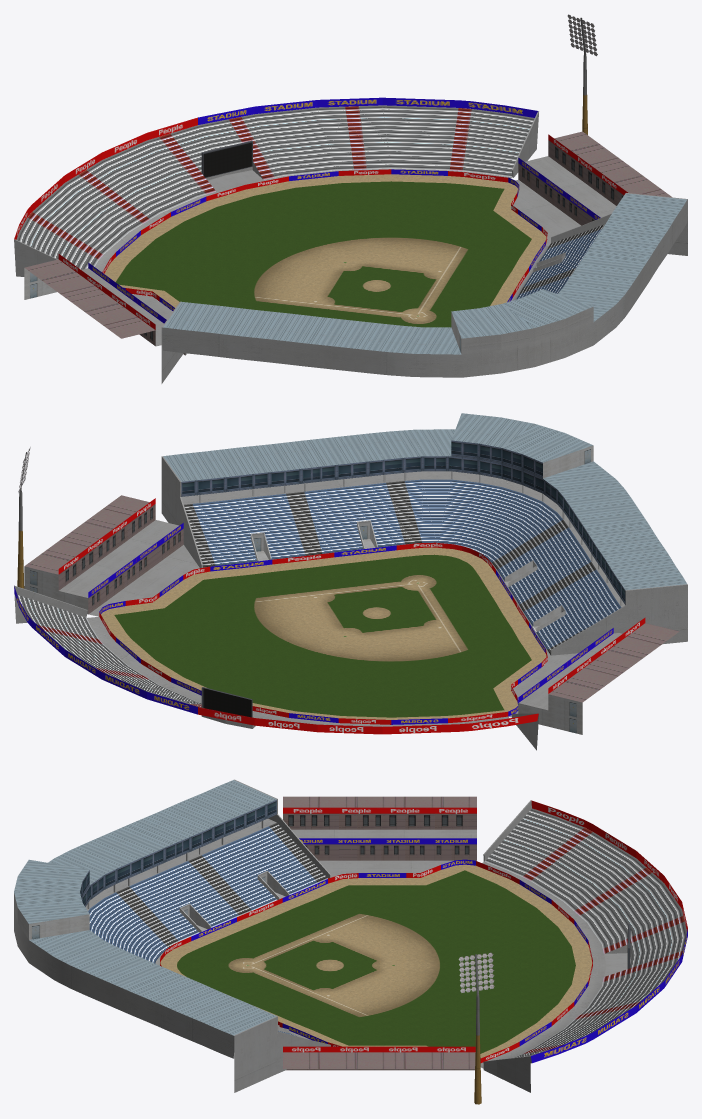
Rendered from BB_Staidum_1.fbx.
3 views of the same model, one above another, from view 1: azimuth 30°, elevation 25°; view 2: azimuth 150°, elevation 25°; view 3: azimuth 270°, elevation 25° (orthographic).
Parts seen in each view (by area): view 1: BB_Ground, BB_staidum_part_5, BB_staidum_part_3, BB_staidum_part_4, BB_staidum_part_1, BB_ground_Ads1, Black_Board1, BB_Ground_Light, BB_ground_Ads2; view 2: BB_staidum_part_3, BB_Ground, BB_staidum_part_4, BB_staidum_part_5, BB_staidum_part_1, BB_ground_Ads1, BB_ground_Ads2, Black_Board1, BB_Ground_Light; view 3: BB_Ground, BB_staidum_part_3, BB_staidum_part_5, BB_staidum_part_1, BB_staidum_part_4, BB_ground_Ads2, BB_Ground_Light, BB_ground_Ads1.
Boxes of the visible parts, x1=… form: BB_Ground: x1=104, y1=174, x2=546, y2=327; BB_staidum_part_5: x1=14, y1=97, x2=538, y2=276; BB_staidum_part_3: x1=161, y1=193, x2=687, y2=383; BB_staidum_part_4: x1=513, y1=131, x2=672, y2=245; BB_staidum_part_1: x1=24, y1=254, x2=186, y2=355; BB_ground_Ads1: x1=245, y1=169, x2=547, y2=302; Black_Board1: x1=201, y1=140, x2=252, y2=177; BB_Ground_Light: x1=567, y1=14, x2=597, y2=134; BB_ground_Ads2: x1=102, y1=185, x2=245, y2=310; BB_staidum_part_3: x1=161, y1=413, x2=687, y2=655; BB_Ground: x1=101, y1=547, x2=546, y2=719; BB_staidum_part_4: x1=24, y1=495, x2=199, y2=616; BB_staidum_part_5: x1=14, y1=585, x2=538, y2=750; BB_staidum_part_1: x1=509, y1=617, x2=679, y2=734; BB_ground_Ads1: x1=99, y1=542, x2=461, y2=695; BB_ground_Ads2: x1=252, y1=546, x2=547, y2=724; Black_Board1: x1=201, y1=687, x2=252, y2=717; BB_Ground_Light: x1=17, y1=447, x2=30, y2=588; BB_Ground: x1=160, y1=864, x2=592, y2=1058; BB_staidum_part_3: x1=14, y1=779, x2=330, y2=1092; BB_staidum_part_5: x1=480, y1=800, x2=687, y2=1092; BB_staidum_part_1: x1=283, y1=796, x2=476, y2=877; BB_staidum_part_4: x1=283, y1=1046, x2=475, y2=1070; BB_ground_Ads2: x1=160, y1=859, x2=592, y2=962; BB_Ground_Light: x1=458, y1=952, x2=494, y2=1104; BB_ground_Ads1: x1=160, y1=961, x2=592, y2=1062.
Size of the model in its own units: 25152 by 6264 by 25986.
